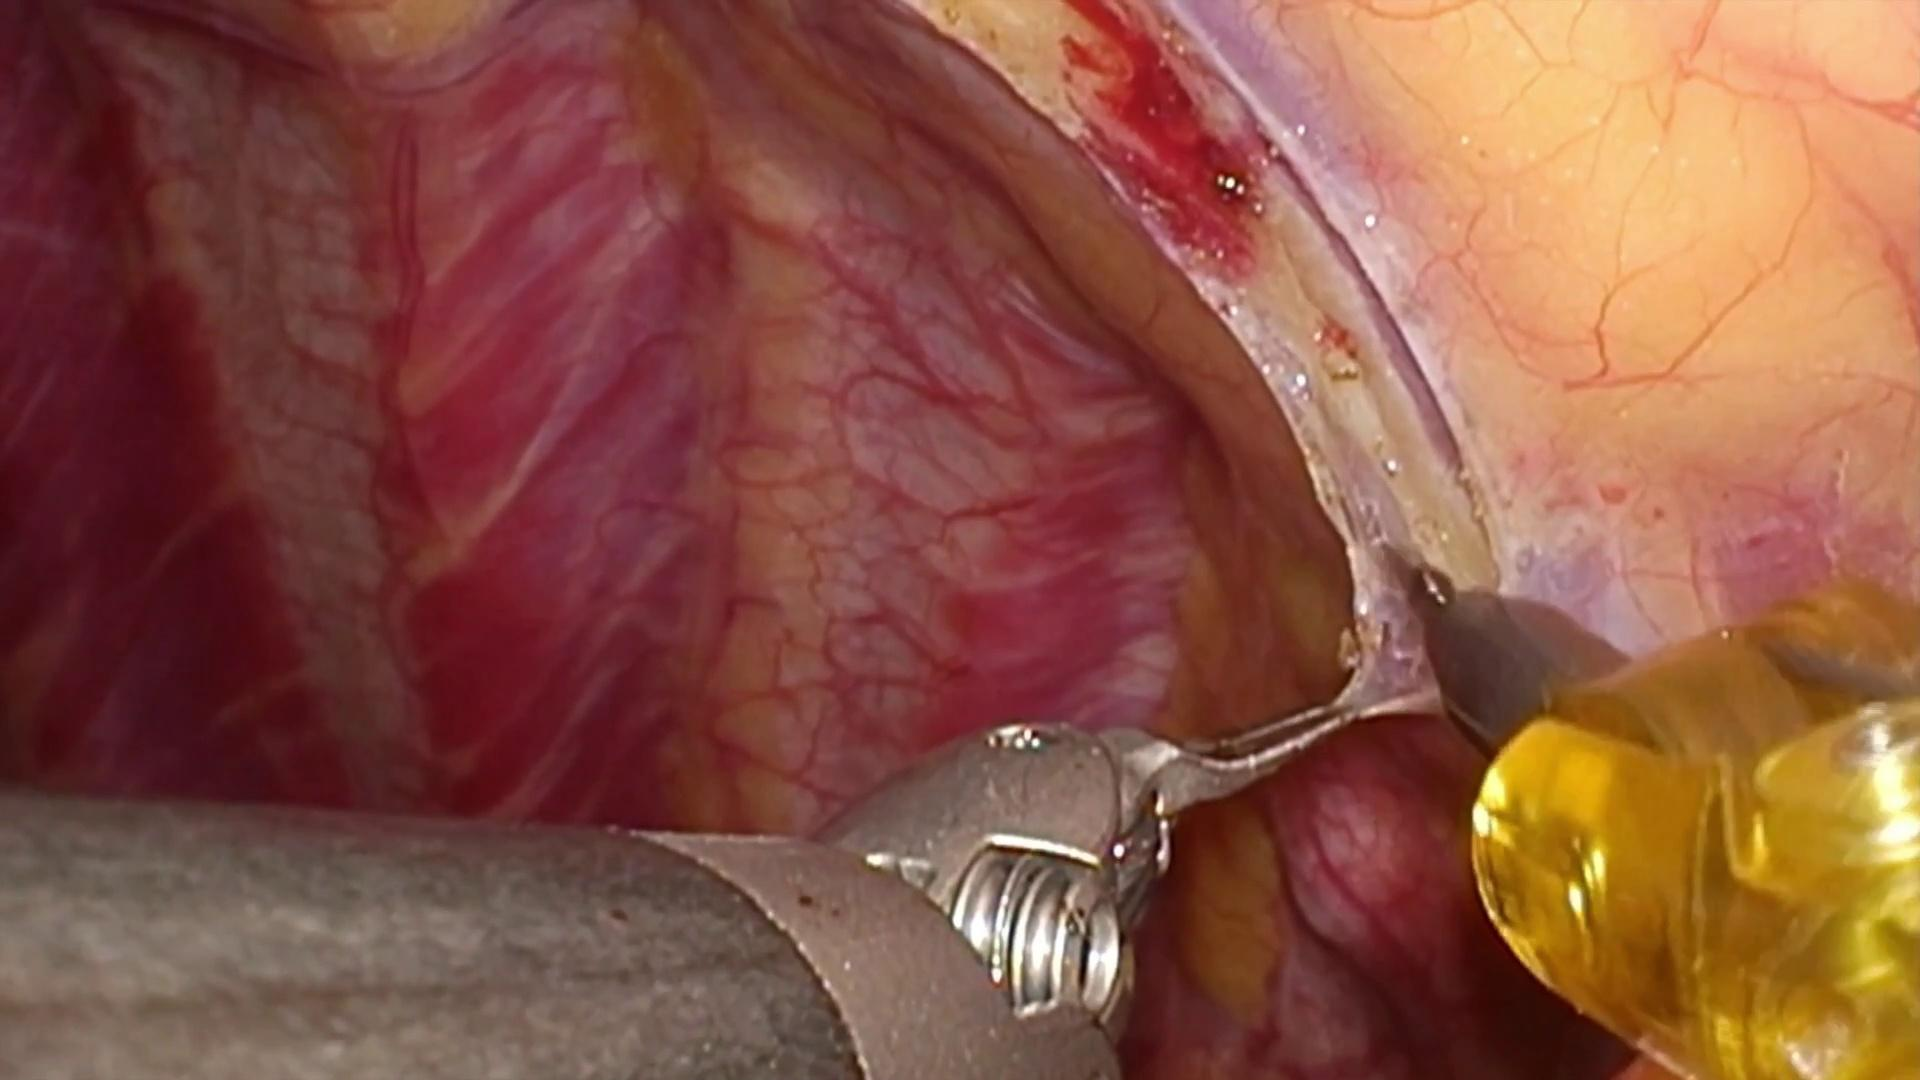Cautery_Spatula: (1379, 537, 1644, 746)
Debakey: (1110, 625, 1356, 882)
